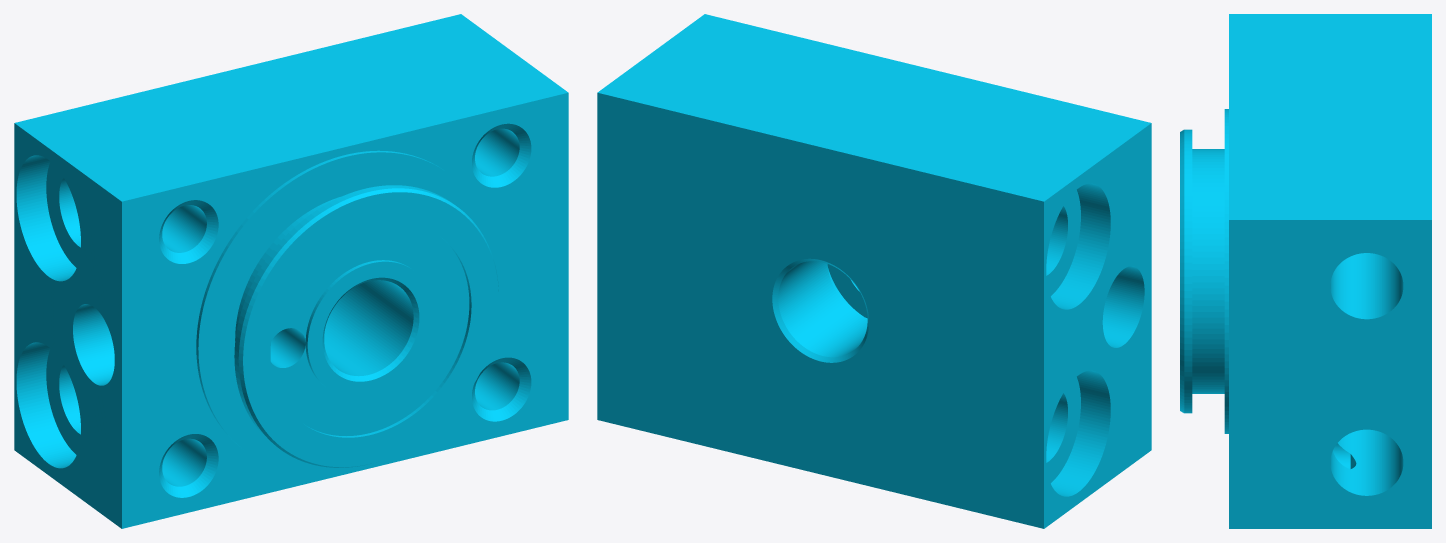
3 views of the same model, side by side, from view 1: azimuth 30°, elevation 25°; view 2: azimuth 150°, elevation 25°; view 3: azimuth 270°, elevation 25° (orthographic). The views are drawn at different scales.
Parts seen in each view (by area): view 1: Node1; view 2: Node1; view 3: Node1.
Boxes of the visible parts, x1,y1,x2,y2 form: Node1: (14,14,568,528); Node1: (597,14,1151,528); Node1: (1180,14,1431,528).
Size of the model in its own units: 60 by 42 by 31.
